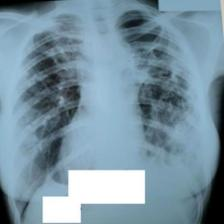tuberculosis: (8, 7, 202, 189)
